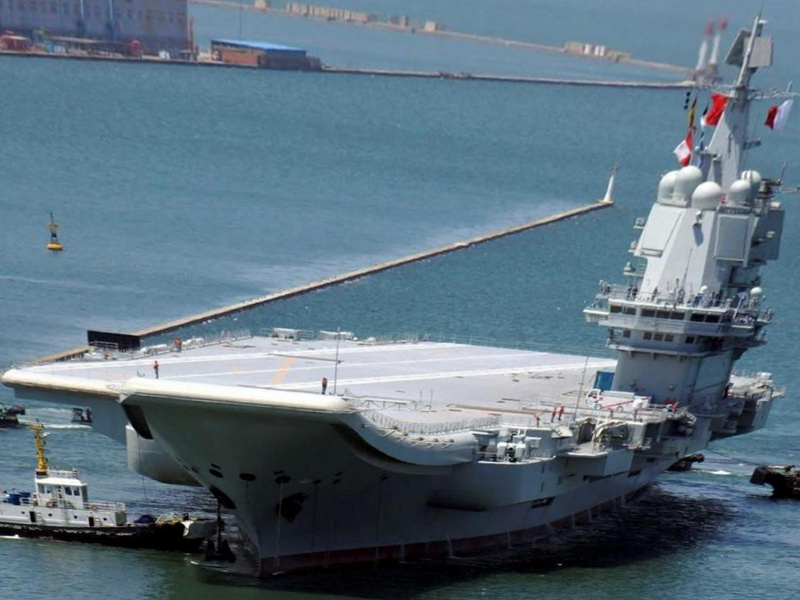boat: (6, 430, 202, 550)
carrier: (79, 107, 778, 562)
